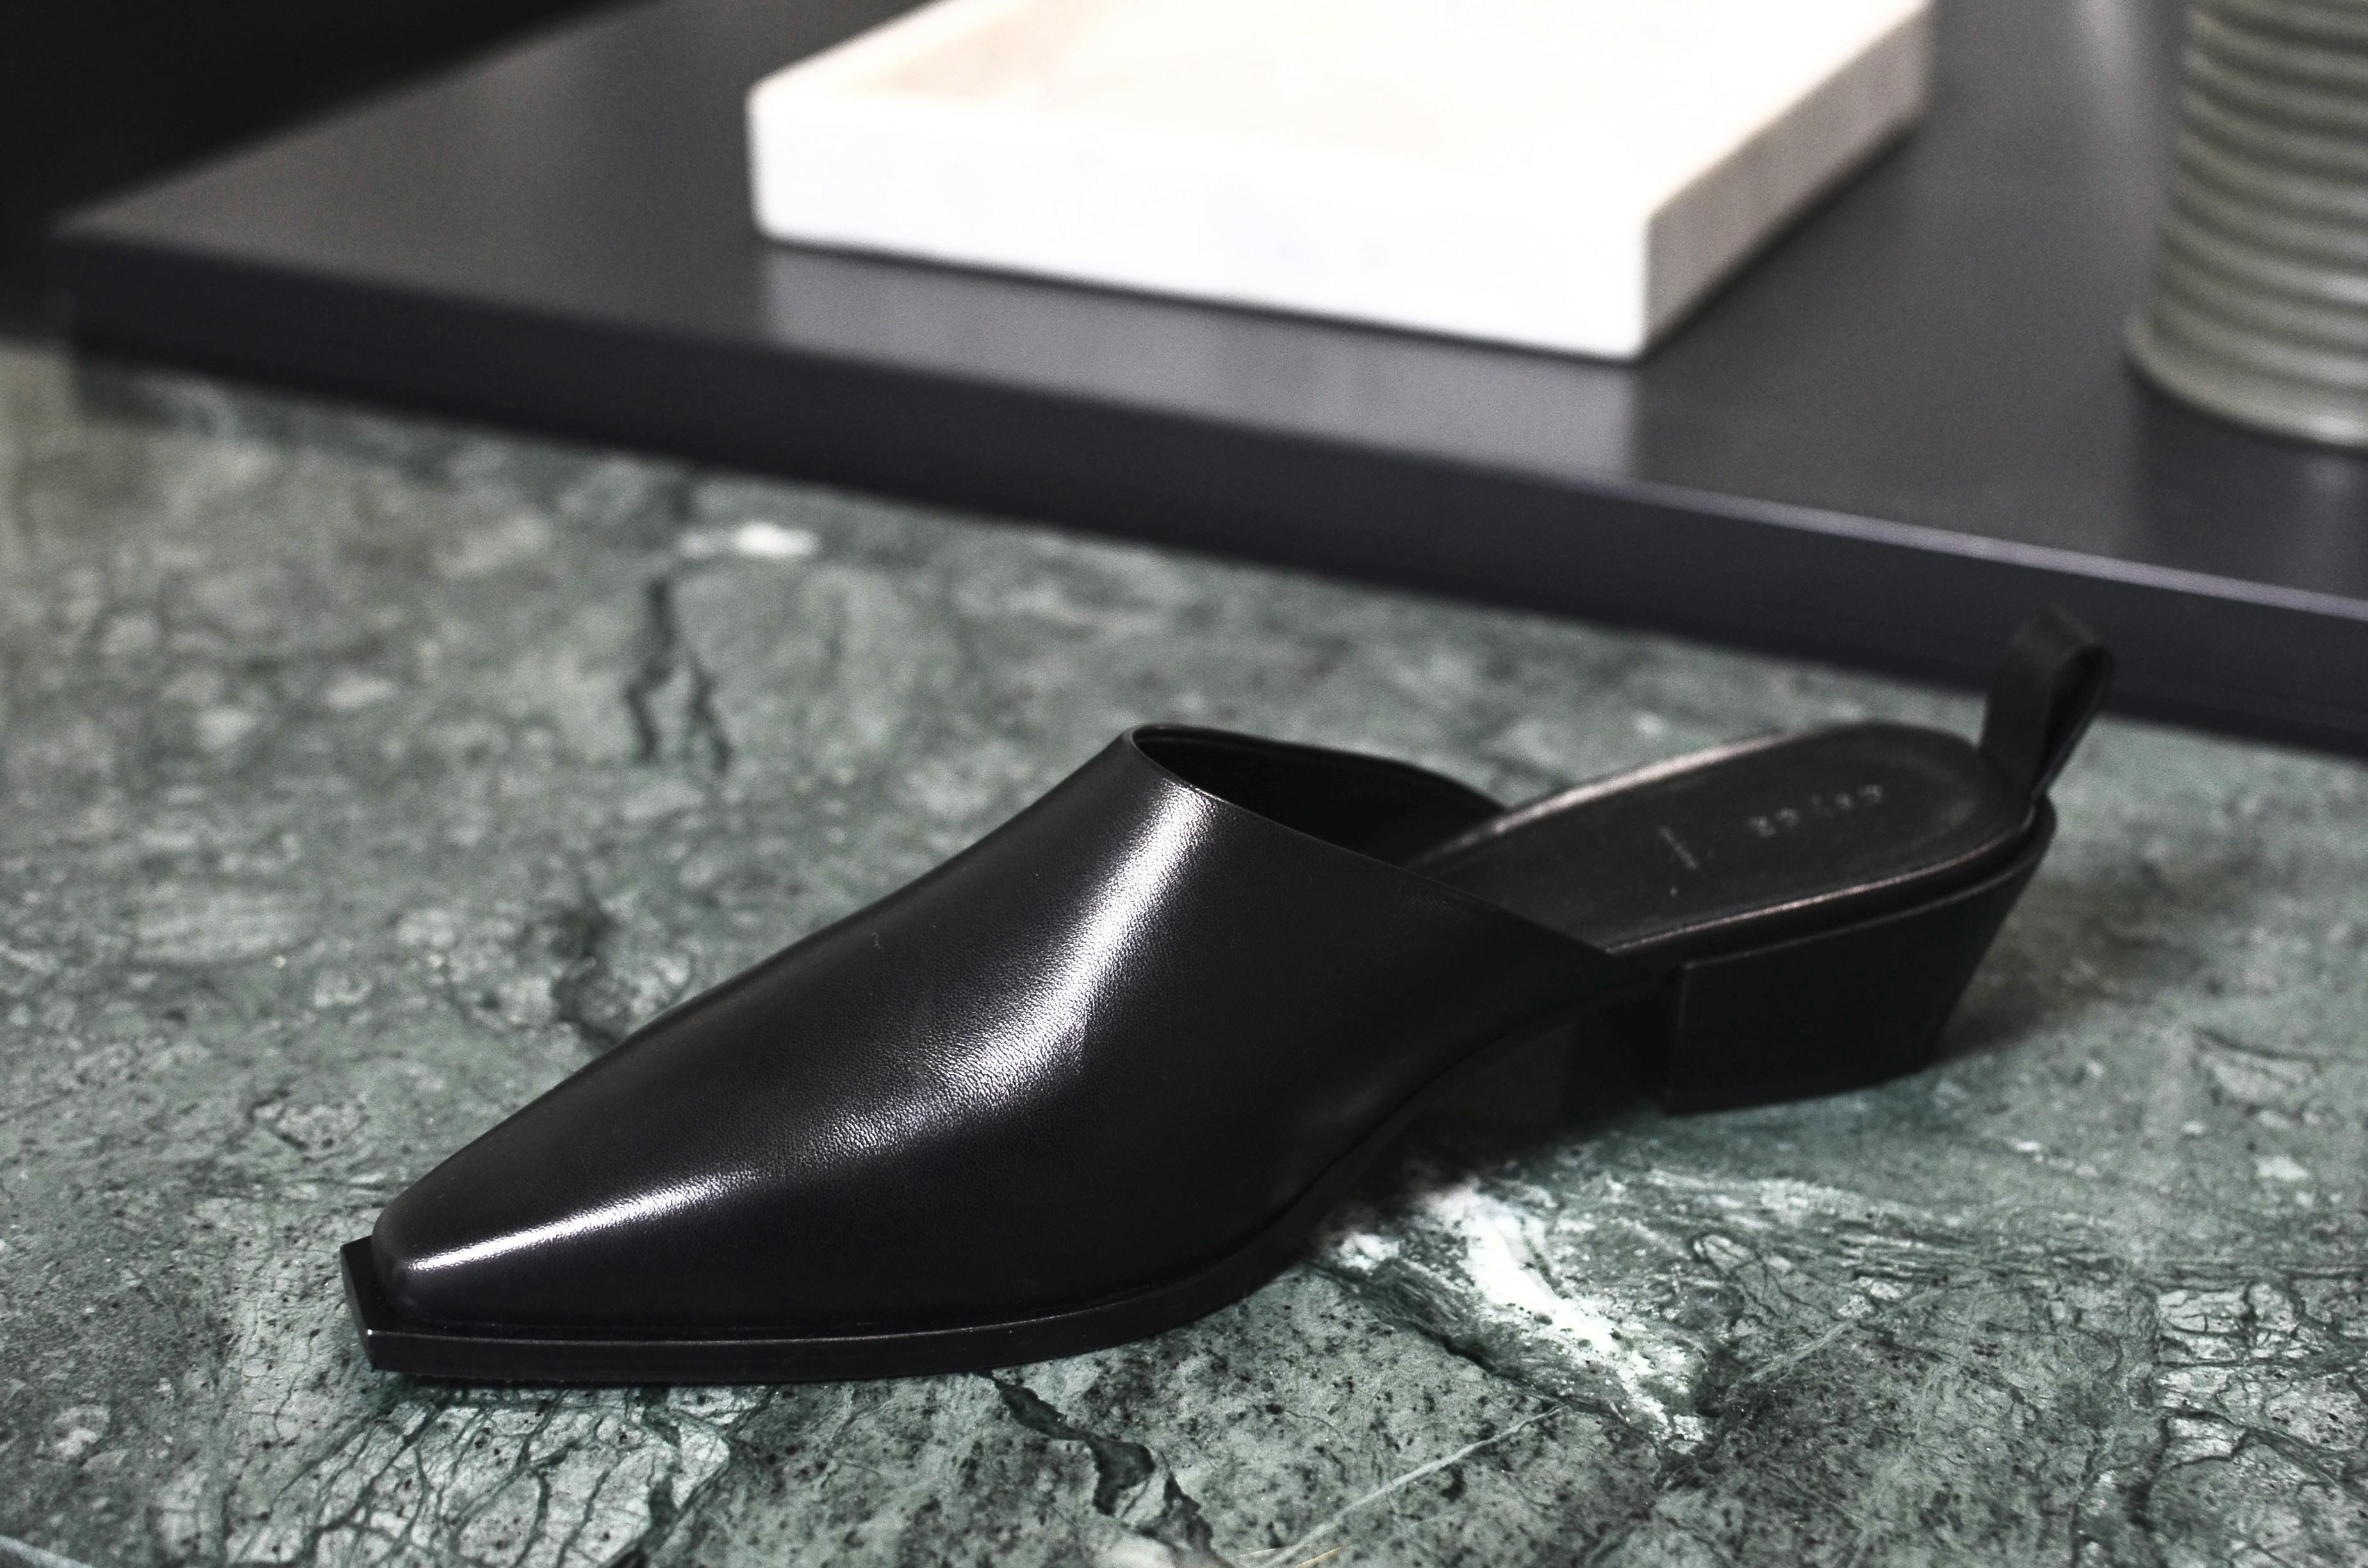Footwear: (217, 670, 2119, 1384)
